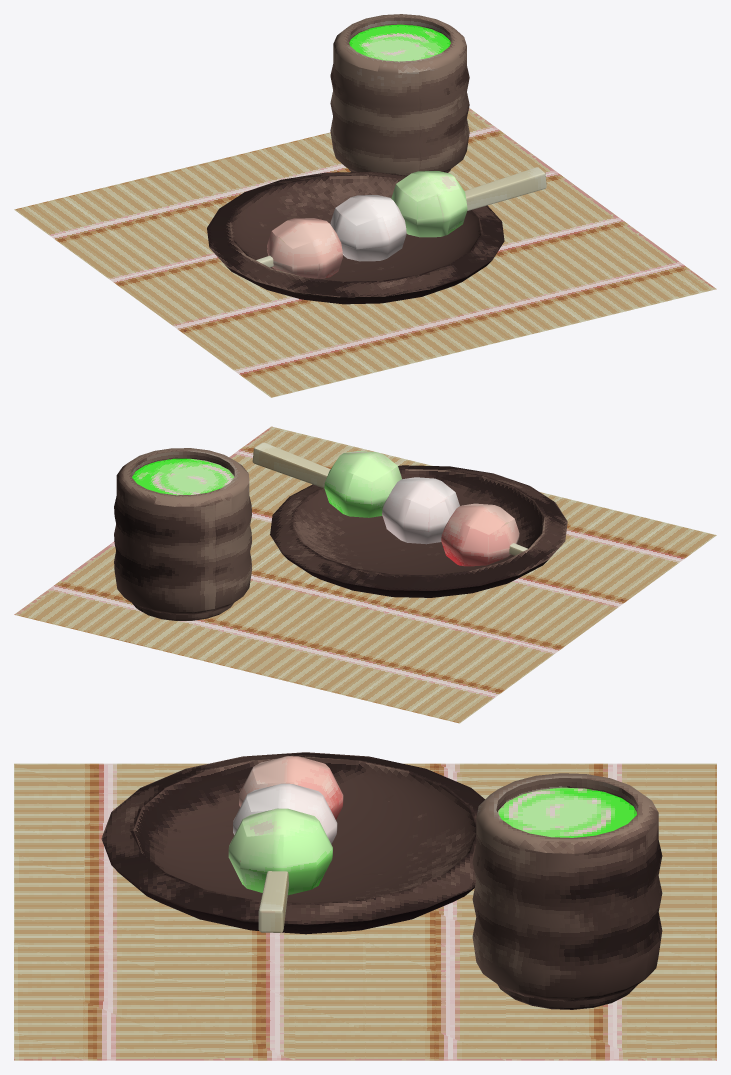
The model's file is dango2.glb.
3 renders of one model, top to bottom at view 1: azimuth 30°, elevation 25°; view 2: azimuth 150°, elevation 25°; view 3: azimuth 270°, elevation 25°, orthographic. The views are drawn at different scales.
Parts seen in each view (by area): view 1: mesh; view 2: mesh; view 3: mesh.
Part boxes in pixels (bbox=[...]): mesh: bbox=[14, 14, 716, 397]; mesh: bbox=[14, 426, 716, 723]; mesh: bbox=[14, 752, 716, 1060].
Size of the model in its own units: 0.4329 by 0.12 by 0.4329.
1 material, 1 textured.
